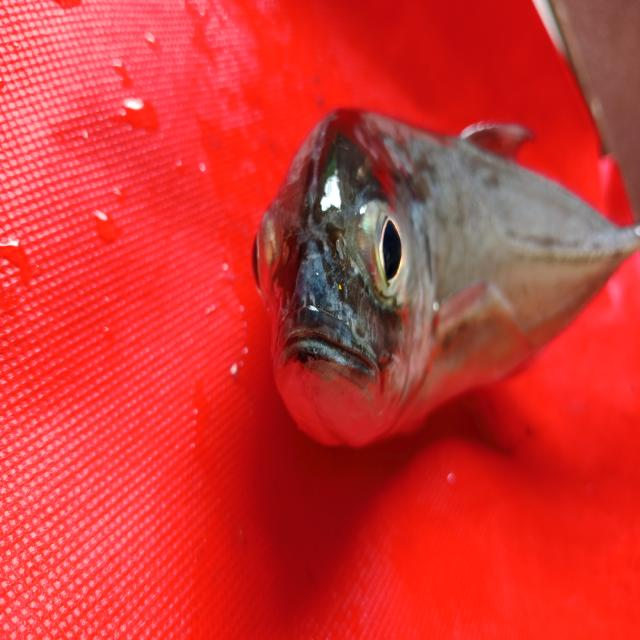ikan: (238, 96, 630, 471)
